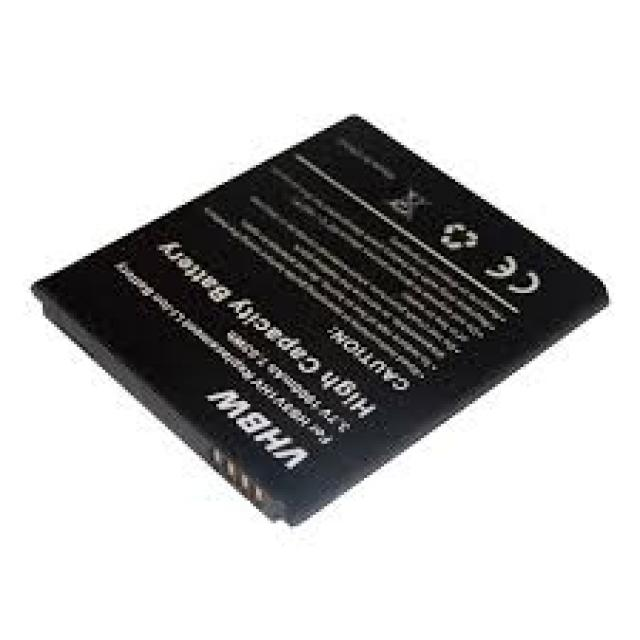non-organic waste: (29, 112, 610, 526)
